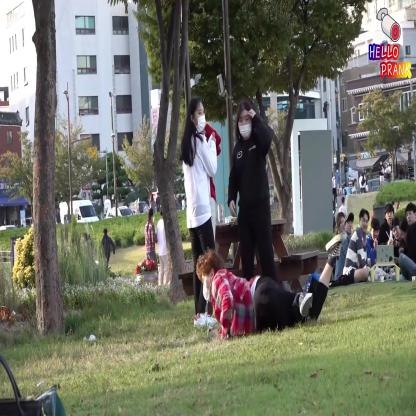Fall_Down: (195, 232, 348, 346)
